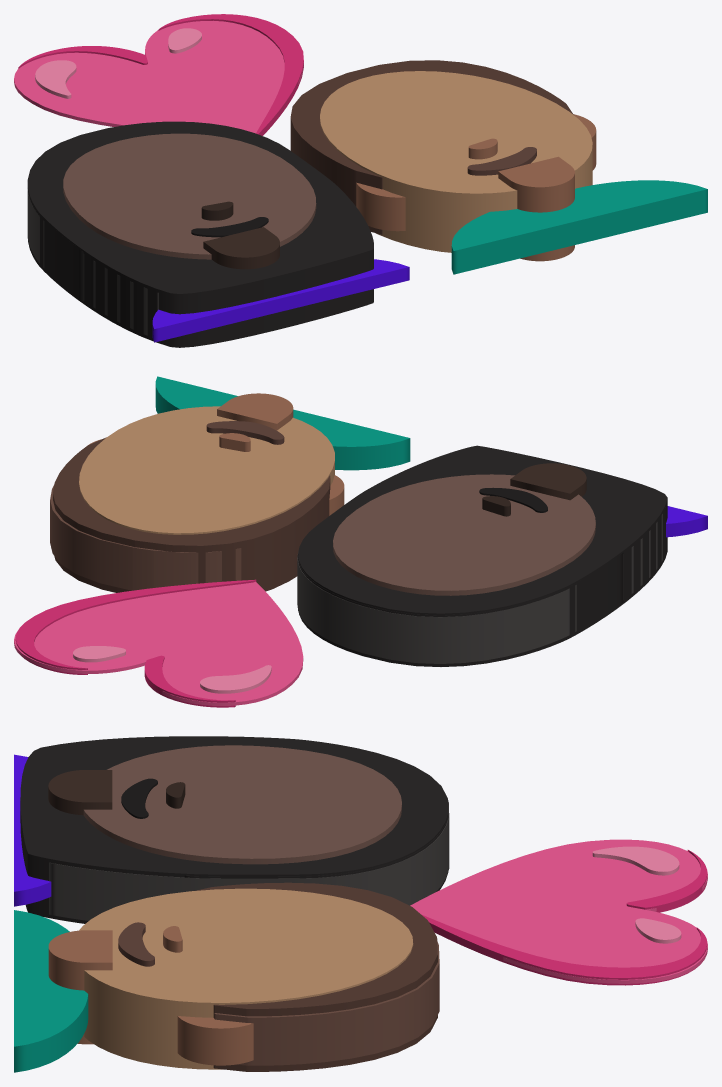
The model's file is emoji_u1f469_1f3ff_200d_2764_200d_1f468_1f3fd.glb.
3 renders of one model, top to bottom at view 1: azimuth 30°, elevation 25°; view 2: azimuth 150°, elevation 25°; view 3: azimuth 270°, elevation 25°, orthographic. The views are drawn at different scales.
Parts seen in each view (by area): view 1: emoji_u1f469_1f3ff_200d_2764_200d_1f468_1f3fd; view 2: emoji_u1f469_1f3ff_200d_2764_200d_1f468_1f3fd; view 3: emoji_u1f469_1f3ff_200d_2764_200d_1f468_1f3fd.
Boxes of the visible parts, left/top/right/bottom form: emoji_u1f469_1f3ff_200d_2764_200d_1f468_1f3fd: left=14, top=14, right=707, bottom=347; emoji_u1f469_1f3ff_200d_2764_200d_1f468_1f3fd: left=14, top=376, right=707, bottom=707; emoji_u1f469_1f3ff_200d_2764_200d_1f468_1f3fd: left=14, top=736, right=707, bottom=1072.
Bounding box in the file's own units: 0.0345 × 0.005 × 0.0339.
